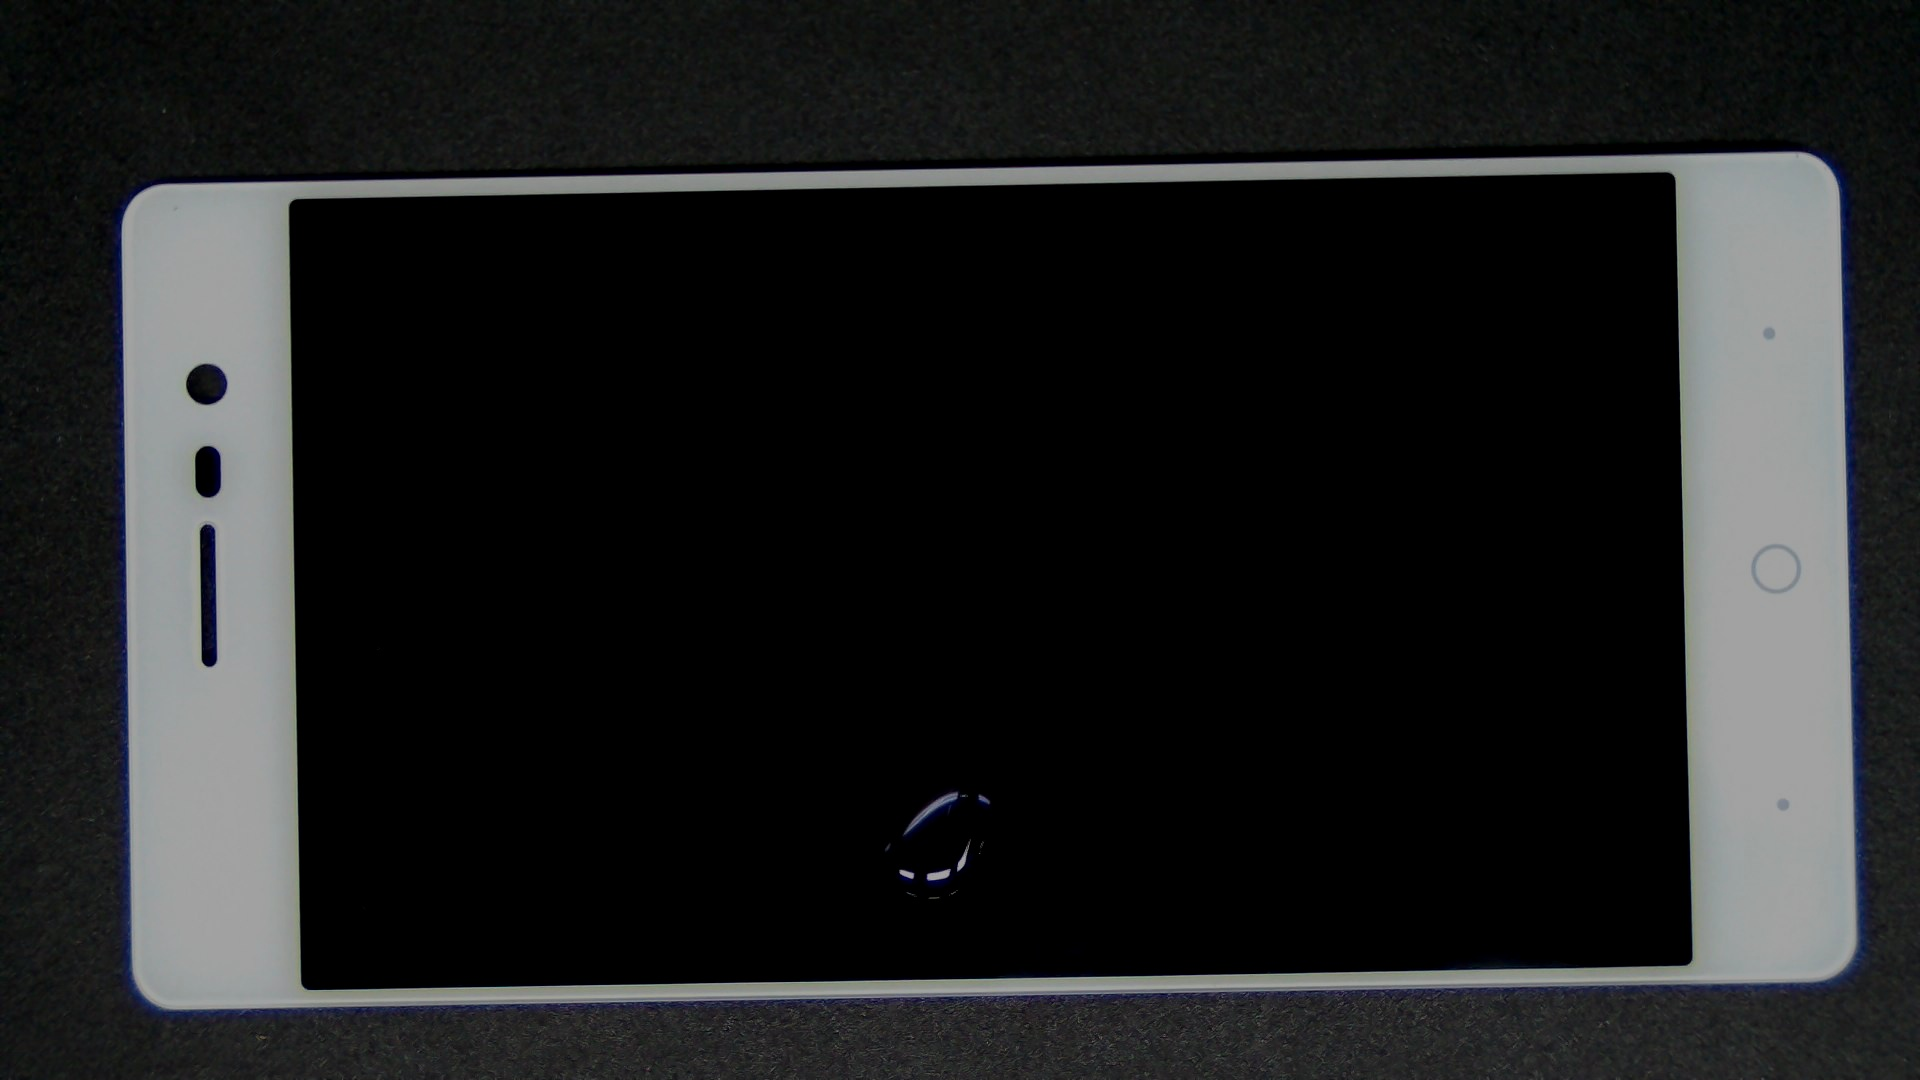oil: (480, 386, 1436, 1080)
